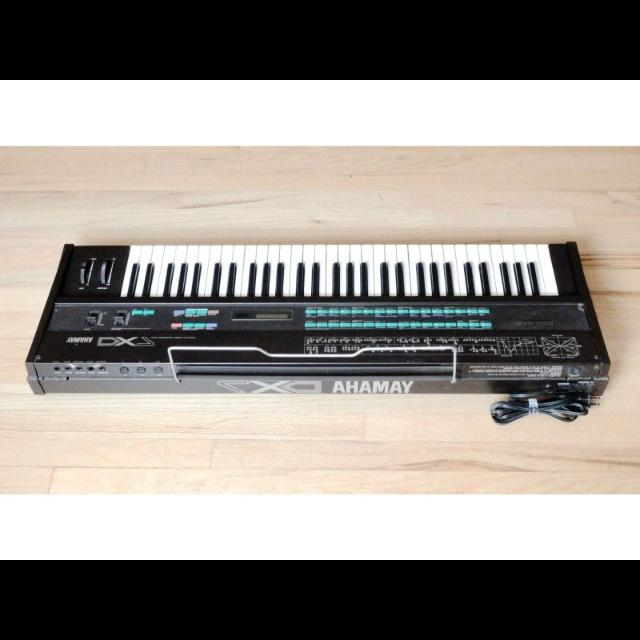Electronic-Keyboard: (18, 242, 616, 398)
